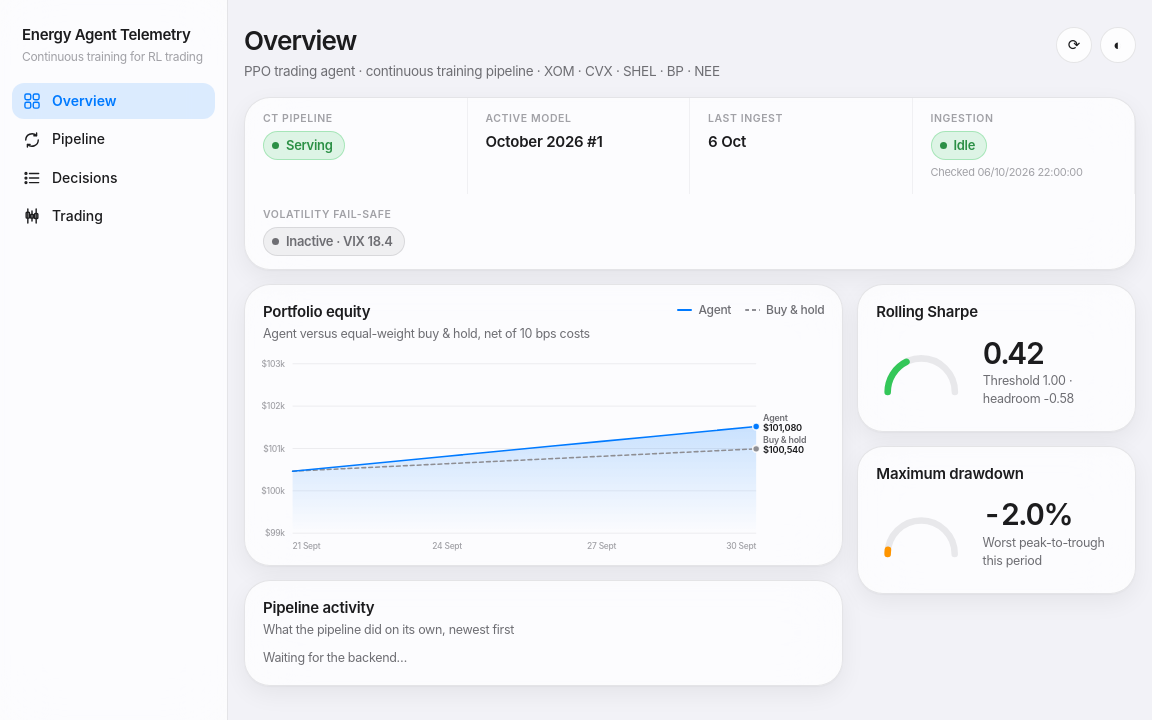
Scenario: Force Check › posts to /ct/evaluate and shows the status it returns
Click the button named "Force a CT evaluation now" at (1074, 44), box [1056,26,1092,62]
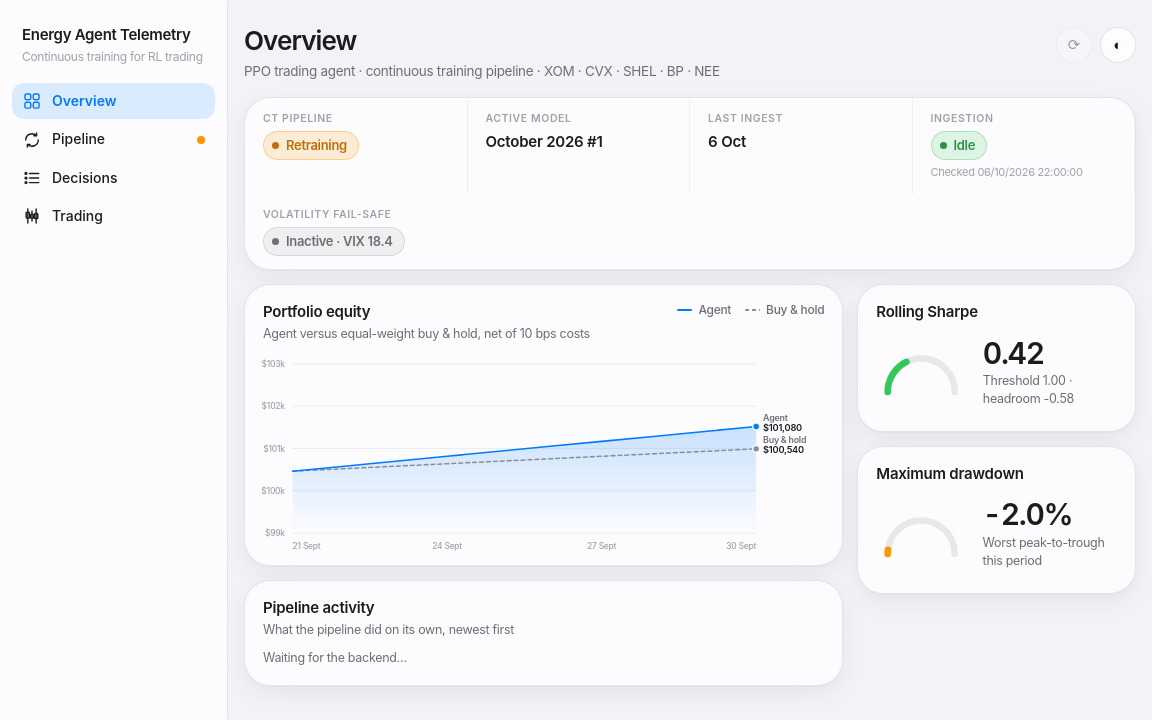
Expected: the text "Retraining" is shown, [263,132,359,160]
Expected: the button named "Force a CT evaluation now" is disabled, [1056,26,1092,62]
